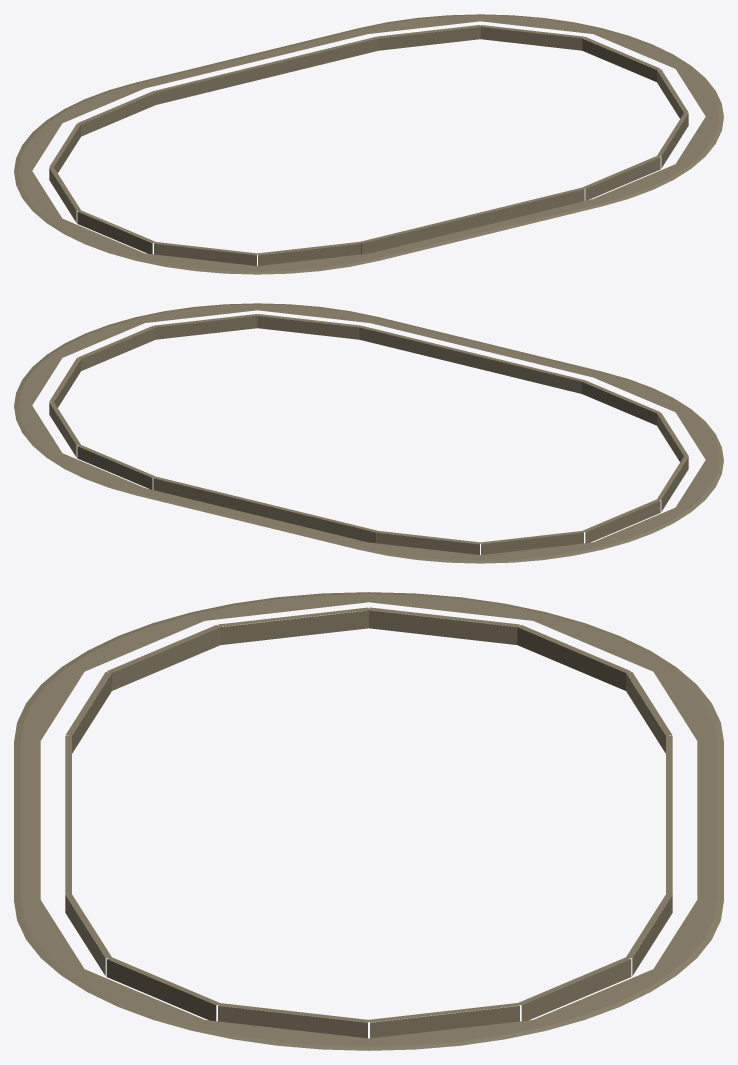
Rendered from bw-quay.gaps-v1.lod2.glb.
3 views of the same model, one above another, from view 1: azimuth 30°, elevation 25°; view 2: azimuth 150°, elevation 25°; view 3: azimuth 270°, elevation 25° (orthographic). The views are drawn at different scales.
Parts seen in each view (by area): view 1: bw-quay; view 2: bw-quay; view 3: bw-quay.
Boxes of the visible parts, <box> form: bw-quay: <box>14,14,723,274</box>; bw-quay: <box>14,303,723,563</box>; bw-quay: <box>14,592,723,1050</box>.
Bounding box in the file's own units: 159 × 2.93 × 104.
